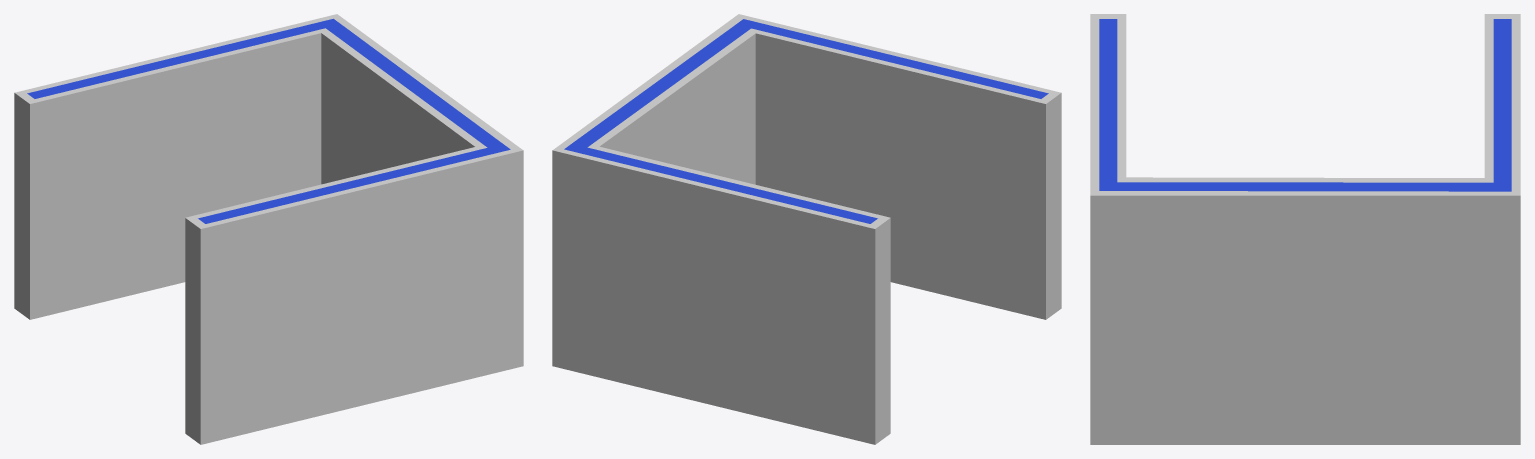
The model's file is wall u shaped.fbx.
3 renders of one model, left to right at view 1: azimuth 30°, elevation 25°; view 2: azimuth 150°, elevation 25°; view 3: azimuth 270°, elevation 25°, orthographic. The views are drawn at different scales.
Parts seen in each view (by area): view 1: Cube.070; view 2: Cube.070; view 3: Cube.070.
Boxes of the visible parts, <box> form: Cube.070: <box>14,14,523,444</box>; Cube.070: <box>552,14,1061,444</box>; Cube.070: <box>1090,14,1520,444</box>.
Bounding box in the file's own units: 899 × 575 × 899.
